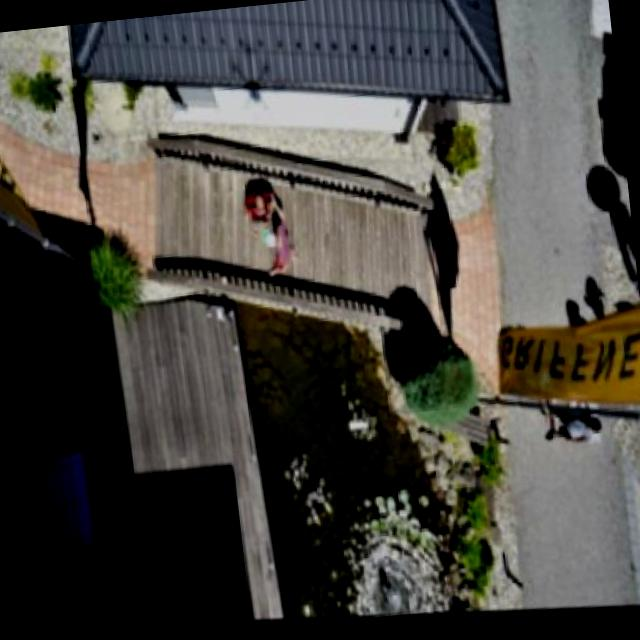Person: (533, 411, 610, 454), (233, 175, 290, 228), (254, 220, 300, 285)
